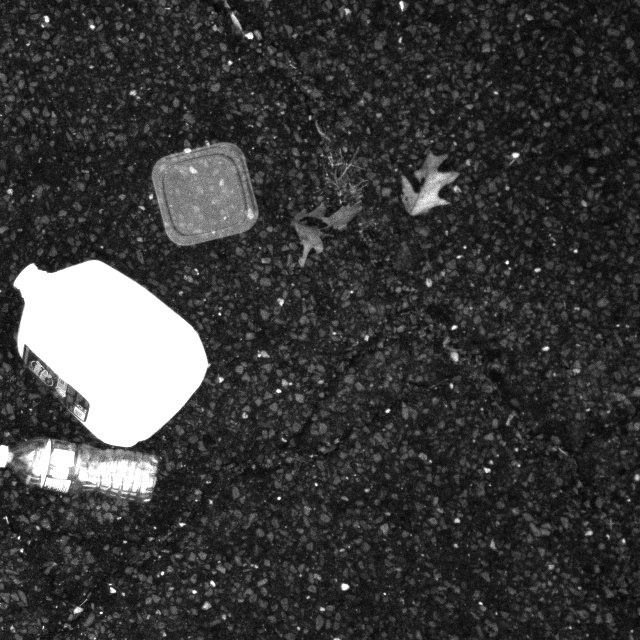bottle: (0, 439, 170, 503)
can: (0, 253, 215, 452)
container: (141, 136, 267, 253)
